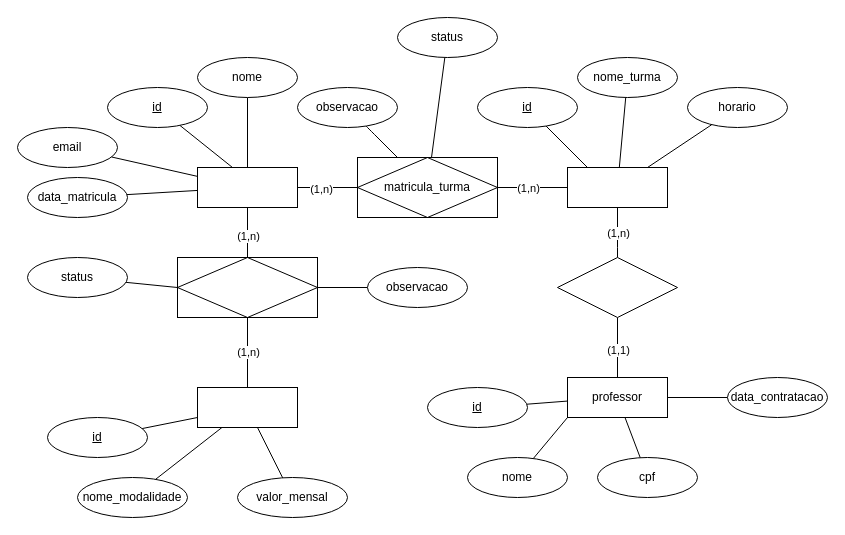
The diagram is 845 pixels wide and 535 high, and some of its shapes have lost their labels. The shapes that lost their labels are listed below. From the top down, each one's box as (x1, y1, x2, y2) in pixels, then its label:
(196, 166, 298, 208): aluno
(566, 166, 668, 208): turma
(176, 256, 318, 318): matricula_modalidade
(556, 256, 678, 318): ministra
(196, 386, 298, 428): modalidade
